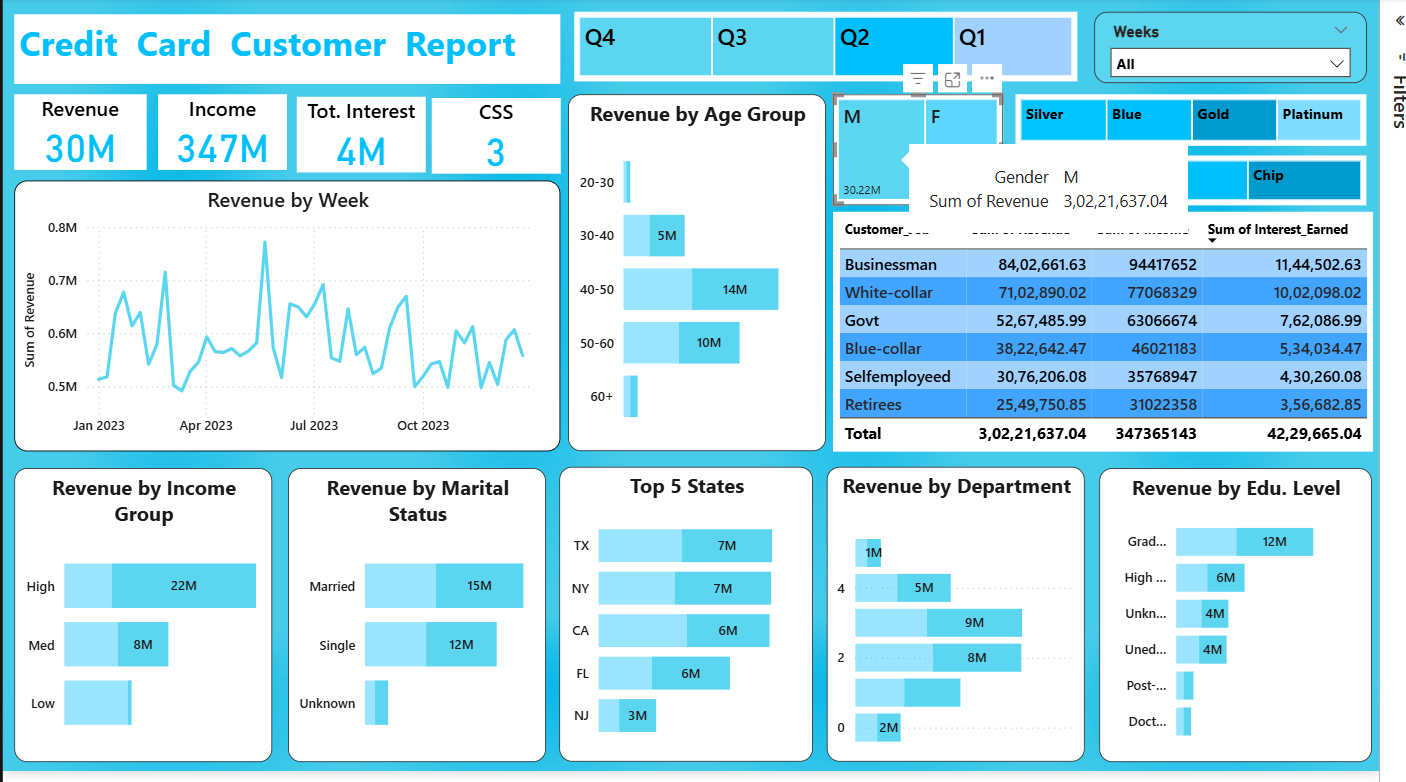

The dashboard page shown, as its layout file describes it:
{"tool":"powerbi","page":{"name":"Page 3","canvas":[1280,720],"ordinal":2},"visuals":[{"type":"textbox","box":[10,15,508.3,65],"z":0},{"type":"barChart","title":" Revenue by Income Group","fields":{"Y":["Sum(ccdb cc_detail.Revenue)"],"Category":["ccdb cust_detail.income group"],"Series":["ccdb cust_detail.Gender"]},"box":[10,436.7,240,273.3],"z":1000},{"type":"tableEx","fields":{"Values":["ccdb cust_detail.Customer_Job","Sum(ccdb cc_detail.Revenue)","Sum(ccdb cust_detail.Income)","Sum(ccdb cc_detail.Interest_Earned)"]},"box":[771.7,198.3,502,223.3],"z":2000},{"type":"card","title":"Tot. Interest ","fields":{"Values":["Sum(ccdb cc_detail.Interest_Earned)"]},"box":[272.9,91.4,120,70],"z":3000},{"type":"card","title":"Revenue","fields":{"Values":["Sum(ccdb cc_detail.Revenue)"]},"box":[10,90,122.9,70],"z":4000},{"type":"card","title":"Income","fields":{"Values":["Sum(ccdb cust_detail.Income)"]},"box":[144.3,90,120,70],"z":5000},{"type":"card","title":"CSS","fields":{"Values":["Avg(ccdb cust_detail.Cust_Satisfaction_Score)"]},"box":[398.6,92.9,120,70],"z":6000},{"type":"slicer","fields":{"Values":["ccdb cc_detail.Week_Start_Date"]},"box":[1015,13.3,253.3,66.7],"z":7000},{"type":"treemap","fields":{"Group":["ccdb cc_detail.Qtr"],"Values":["Avg(ccdb cc_detail.Client_Num)"]},"box":[531.7,13.3,468.3,65],"z":8000},{"type":"treemap","fields":{"Group":["ccdb cc_detail.Card_Category"],"Values":["Avg(ccdb cc_detail.Client_Num)"]},"box":[941.7,90,326.7,48.3],"z":9000},{"type":"lineChart","title":"Revenue by Week","fields":{"Y":["Sum(ccdb cc_detail.Revenue)"],"Series":["ccdb cust_detail.Gender"],"Category":["ccdb cc_detail.Week_Start_Date.Variation.Date Hierarchy.Year","ccdb cc_detail.Week_Start_Date.Variation.Date Hierarchy.Month","ccdb cc_detail.Week_Start_Date.Variation.Date Hierarchy.Day"]},"box":[10,170,508.3,251.7],"z":10000},{"type":"treemap","fields":{"Group":["ccdb cust_detail.Gender"],"Values":["Sum(ccdb cc_detail.Revenue)"]},"box":[771.7,90,158.3,103.3],"z":11000},{"type":"barChart","title":" Revenue by Age Group","fields":{"Y":["Sum(ccdb cc_detail.Revenue)"],"Category":["ccdb cust_detail.age group"],"Series":["ccdb cust_detail.Gender"]},"box":[526,90,240,332],"z":12000},{"type":"barChart","title":" Revenue by Department ","fields":{"Y":["Sum(ccdb cc_detail.Revenue)"],"Category":["ccdb cust_detail.Dependent_Count"],"Series":["ccdb cust_detail.Gender"]},"box":[766,436,240,274],"z":13000},{"type":"barChart","title":" Revenue by Edu. Level","fields":{"Y":["Sum(ccdb cc_detail.Revenue)"],"Category":["ccdb cust_detail.Education_Level"],"Series":["ccdb cust_detail.Gender"]},"box":[1020,436.7,253.3,273.3],"z":14000},{"type":"barChart","title":"Top 5 States","fields":{"Y":["Sum(ccdb cc_detail.Revenue)"],"Category":["ccdb cust_detail.State_cd"],"Series":["ccdb cust_detail.Gender"]},"box":[518,436,236,274],"z":15000},{"type":"barChart","title":" Revenue by Marital Status","fields":{"Y":["Sum(ccdb cc_detail.Revenue)"],"Category":["ccdb cust_detail.Marital_Status"],"Series":["ccdb cust_detail.Gender"]},"box":[265,436.7,240,273.3],"z":16000},{"type":"treemap","fields":{"Group":["ccdb cc_detail.Use_Chip"],"Values":["Avg(ccdb cc_detail.Client_Num)"]},"box":[941.7,146.7,326.7,46.7],"z":17000}]}

Visuals, with their boxes in screenshot pixels (x1, y1, x2, y2), scaled from the page's 1280x720 canvas onto the 1406x782 screenshot:
textbox: (left=11, top=16, right=569, bottom=87)
" Revenue by Income Group" barChart: (left=11, top=474, right=275, bottom=771)
tableEx - ccdb cust_detail.Customer_Job x Sum(ccdb cc_detail.Revenue): (left=848, top=215, right=1399, bottom=458)
"Tot. Interest " card: (left=300, top=99, right=432, bottom=175)
"Revenue" card: (left=11, top=98, right=146, bottom=174)
"Income" card: (left=159, top=98, right=290, bottom=174)
"CSS" card: (left=438, top=101, right=570, bottom=177)
slicer - ccdb cc_detail.Week_Start_Date: (left=1115, top=14, right=1393, bottom=87)
treemap - ccdb cc_detail.Qtr x Avg(ccdb cc_detail.Client_Num): (left=584, top=14, right=1098, bottom=85)
treemap - ccdb cc_detail.Card_Category x Avg(ccdb cc_detail.Client_Num): (left=1034, top=98, right=1393, bottom=150)
"Revenue by Week" lineChart: (left=11, top=185, right=569, bottom=458)
treemap - ccdb cust_detail.Gender x Sum(ccdb cc_detail.Revenue): (left=848, top=98, right=1022, bottom=210)
" Revenue by Age Group" barChart: (left=578, top=98, right=841, bottom=458)
" Revenue by Department " barChart: (left=841, top=474, right=1105, bottom=771)
" Revenue by Edu. Level" barChart: (left=1120, top=474, right=1399, bottom=771)
"Top 5 States" barChart: (left=569, top=474, right=828, bottom=771)
" Revenue by Marital Status" barChart: (left=291, top=474, right=555, bottom=771)
treemap - ccdb cc_detail.Use_Chip x Avg(ccdb cc_detail.Client_Num): (left=1034, top=159, right=1393, bottom=210)
